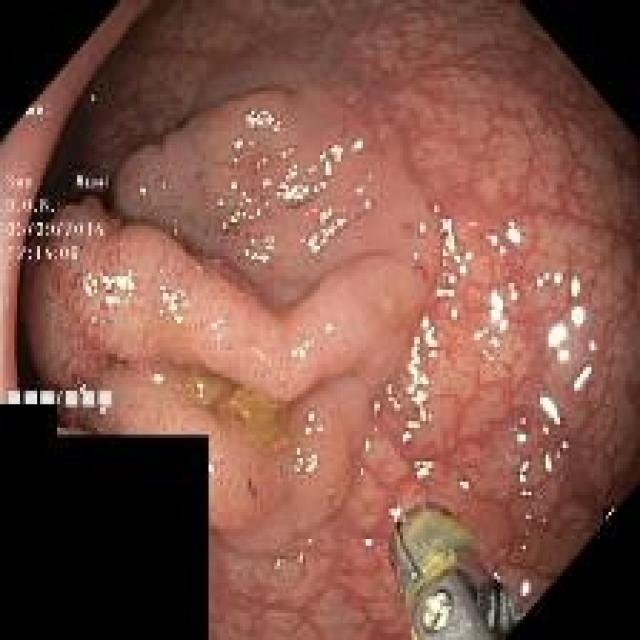Polyps: (22, 90, 440, 553)
